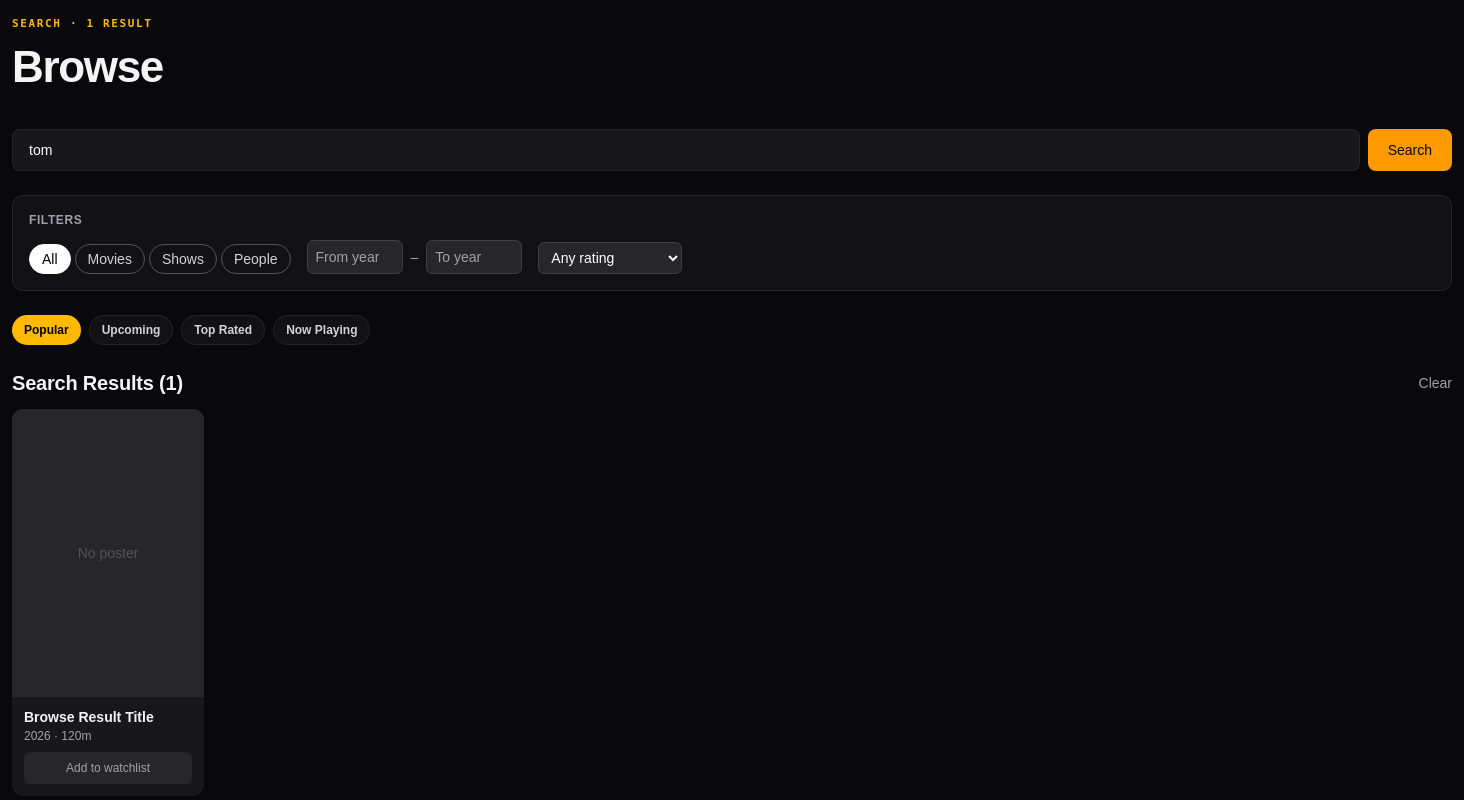
Scenario: BrowsePage people search › People pill searches people and shows cards with Follow
Expected: the heading "Browse Result Title" is shown, x1=24 y1=708 x2=154 y2=724
Expected: the text "Tom Hanks" is not shown
Click the button "People": (256, 258) x1=221 y1=244 x2=291 y2=274
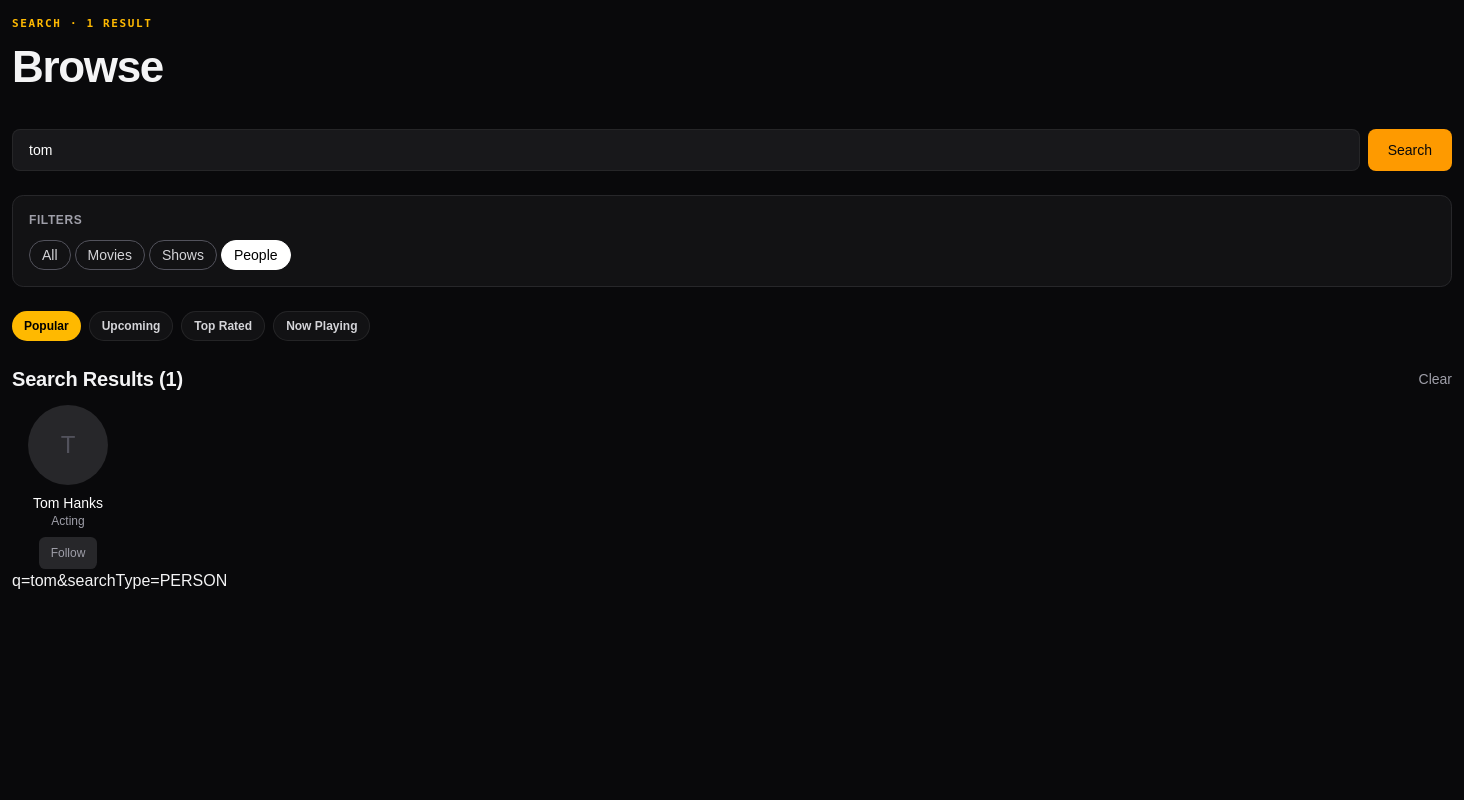
Expected: the text "Tom Hanks" is shown, x1=33 y1=494 x2=103 y2=510
Expected: the text "Acting" is shown, x1=51 y1=514 x2=85 y2=528
Expected: the link "T Tom Hanks Acting" is shown, x1=28 y1=404 x2=108 y2=528
